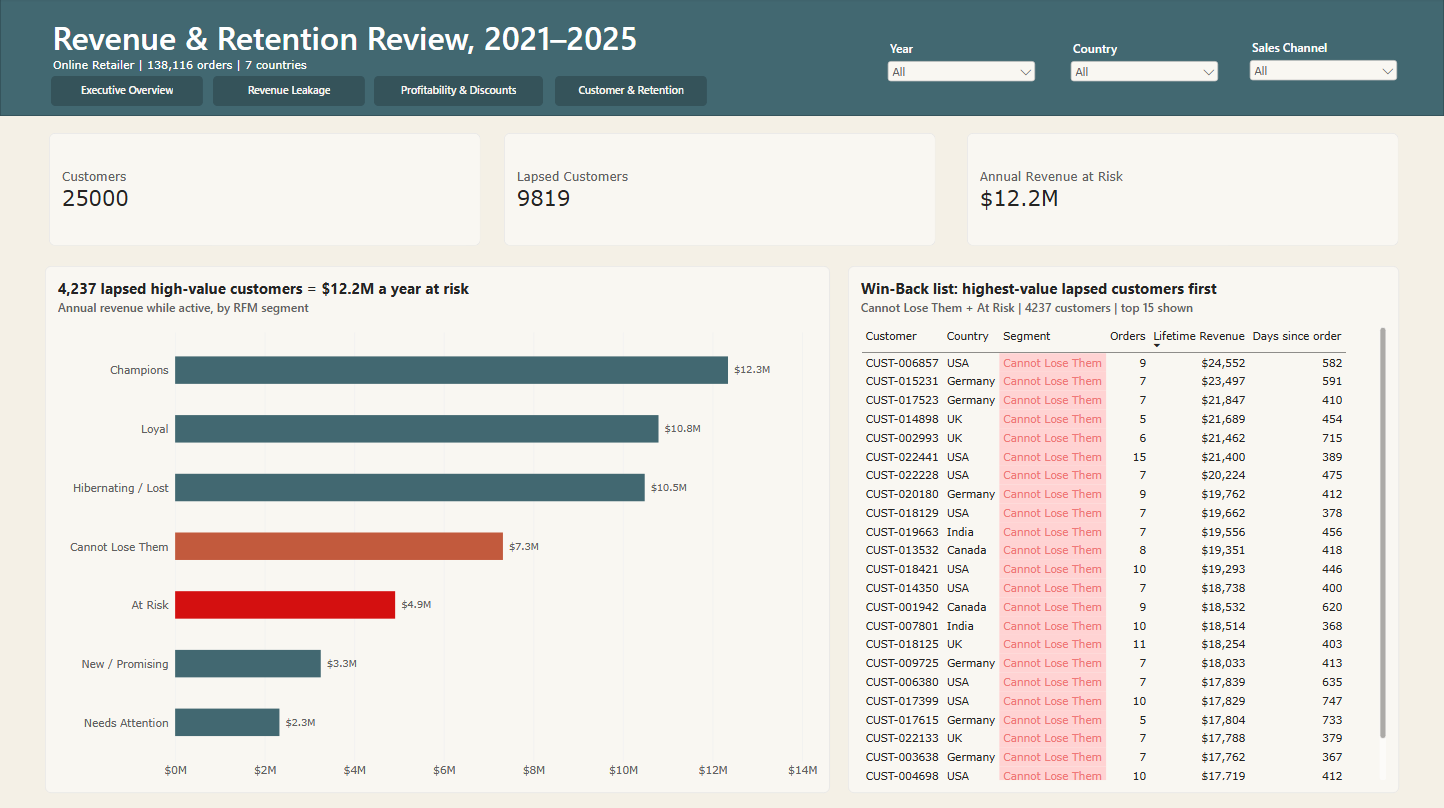

This screenshot's page, from the dashboard's own definition file:
{"tool":"powerbi","page":{"name":"Customer & Retention","canvas":[1920,1080],"ordinal":3},"visuals":[{"type":"cardVisual","fields":{"Data":["_Measures.Customers"]},"box":[65.2,179.6,574.6,150.3],"z":0},{"type":"cardVisual","fields":{"Data":["_Measures.Lapsed Customers"]},"box":[670.3,179.6,574.6,150.3],"z":1000},{"type":"cardVisual","fields":{"Data":["_Measures.Annual Revenue at Risk"]},"box":[1286.2,179.6,574.6,150.3],"z":2000},{"type":"barChart","title":"4,237 lapsed high-value customers = $12.2M a year at risk","fields":{"Category":["dim_customers.rfm_segment"],"Y":["Sum(dim_customers.annual_revenue)"]},"box":[59.9,356.5,1044.1,700.9],"z":3000},{"type":"tableEx","title":"Win-Back list: highest-value lapsed customers first","fields":{"Values":["dim_customers.customer_id","dim_customers.customer_country","dim_customers.rfm_segment","Sum(dim_customers.completed_orders)","Sum(dim_customers.revenue)","Sum(dim_customers.recency_days)"]},"box":[1127.9,356.5,732.9,700.9],"z":4000},{"type":"shape","box":[0,0,1920.6,156.9],"z":5000},{"type":"textbox","box":[25.3,22.6,867.2,81.1],"z":6000},{"type":"slicer","fields":{"Values":["dim_date.Year"]},"box":[1175.8,55.9,206.2,61.2],"z":7000},{"type":"slicer","fields":{"Values":["dim_customers.customer_country"]},"box":[1419.2,55.9,206.2,61.2],"z":8000},{"type":"slicer","fields":{"Values":["fact_orders.sales_channel"]},"box":[1657.2,54.5,206.2,62.5],"z":9000},{"type":"actionButton","title":"Executive Overview","box":[67.8,103.7,202.2,39.9],"z":10000},{"type":"actionButton","title":"Profitability & Discounts","box":[497.4,103.7,224.8,39.9],"z":11000},{"type":"actionButton","title":"Revenue Leakage","box":[283.3,103.7,202.2,39.9],"z":12000},{"type":"actionButton","title":"Customer & Retention","box":[738.2,103.7,202.2,39.9],"z":13000}]}

Visuals, with their boxes in screenshot pixels (x1, y1, x2, y2), scaled from the page's 1920x1080 canvas onto the 1444x808 screenshot:
cardVisual - _Measures.Customers: bbox(49, 134, 481, 247)
cardVisual - _Measures.Lapsed Customers: bbox(504, 134, 936, 247)
cardVisual - _Measures.Annual Revenue at Risk: bbox(967, 134, 1399, 247)
"4,237 lapsed high-value customers = $12.2M a year at risk" barChart: bbox(45, 267, 830, 791)
"Win-Back list: highest-value lapsed customers first" tableEx: bbox(848, 267, 1399, 791)
shape: bbox(0, 0, 1443, 117)
textbox: bbox(19, 17, 671, 78)
slicer - dim_date.Year: bbox(884, 42, 1039, 88)
slicer - dim_customers.customer_country: bbox(1067, 42, 1222, 88)
slicer - fact_orders.sales_channel: bbox(1246, 41, 1401, 88)
"Executive Overview" actionButton: bbox(51, 78, 203, 107)
"Profitability & Discounts" actionButton: bbox(374, 78, 543, 107)
"Revenue Leakage" actionButton: bbox(213, 78, 365, 107)
"Customer & Retention" actionButton: bbox(555, 78, 707, 107)
